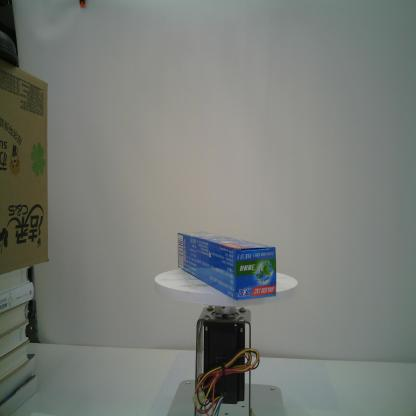Personal Hygiene: (177, 230, 277, 302)
